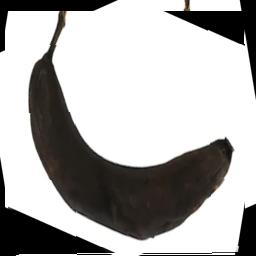Banana Rotten: (6, 12, 246, 256)
